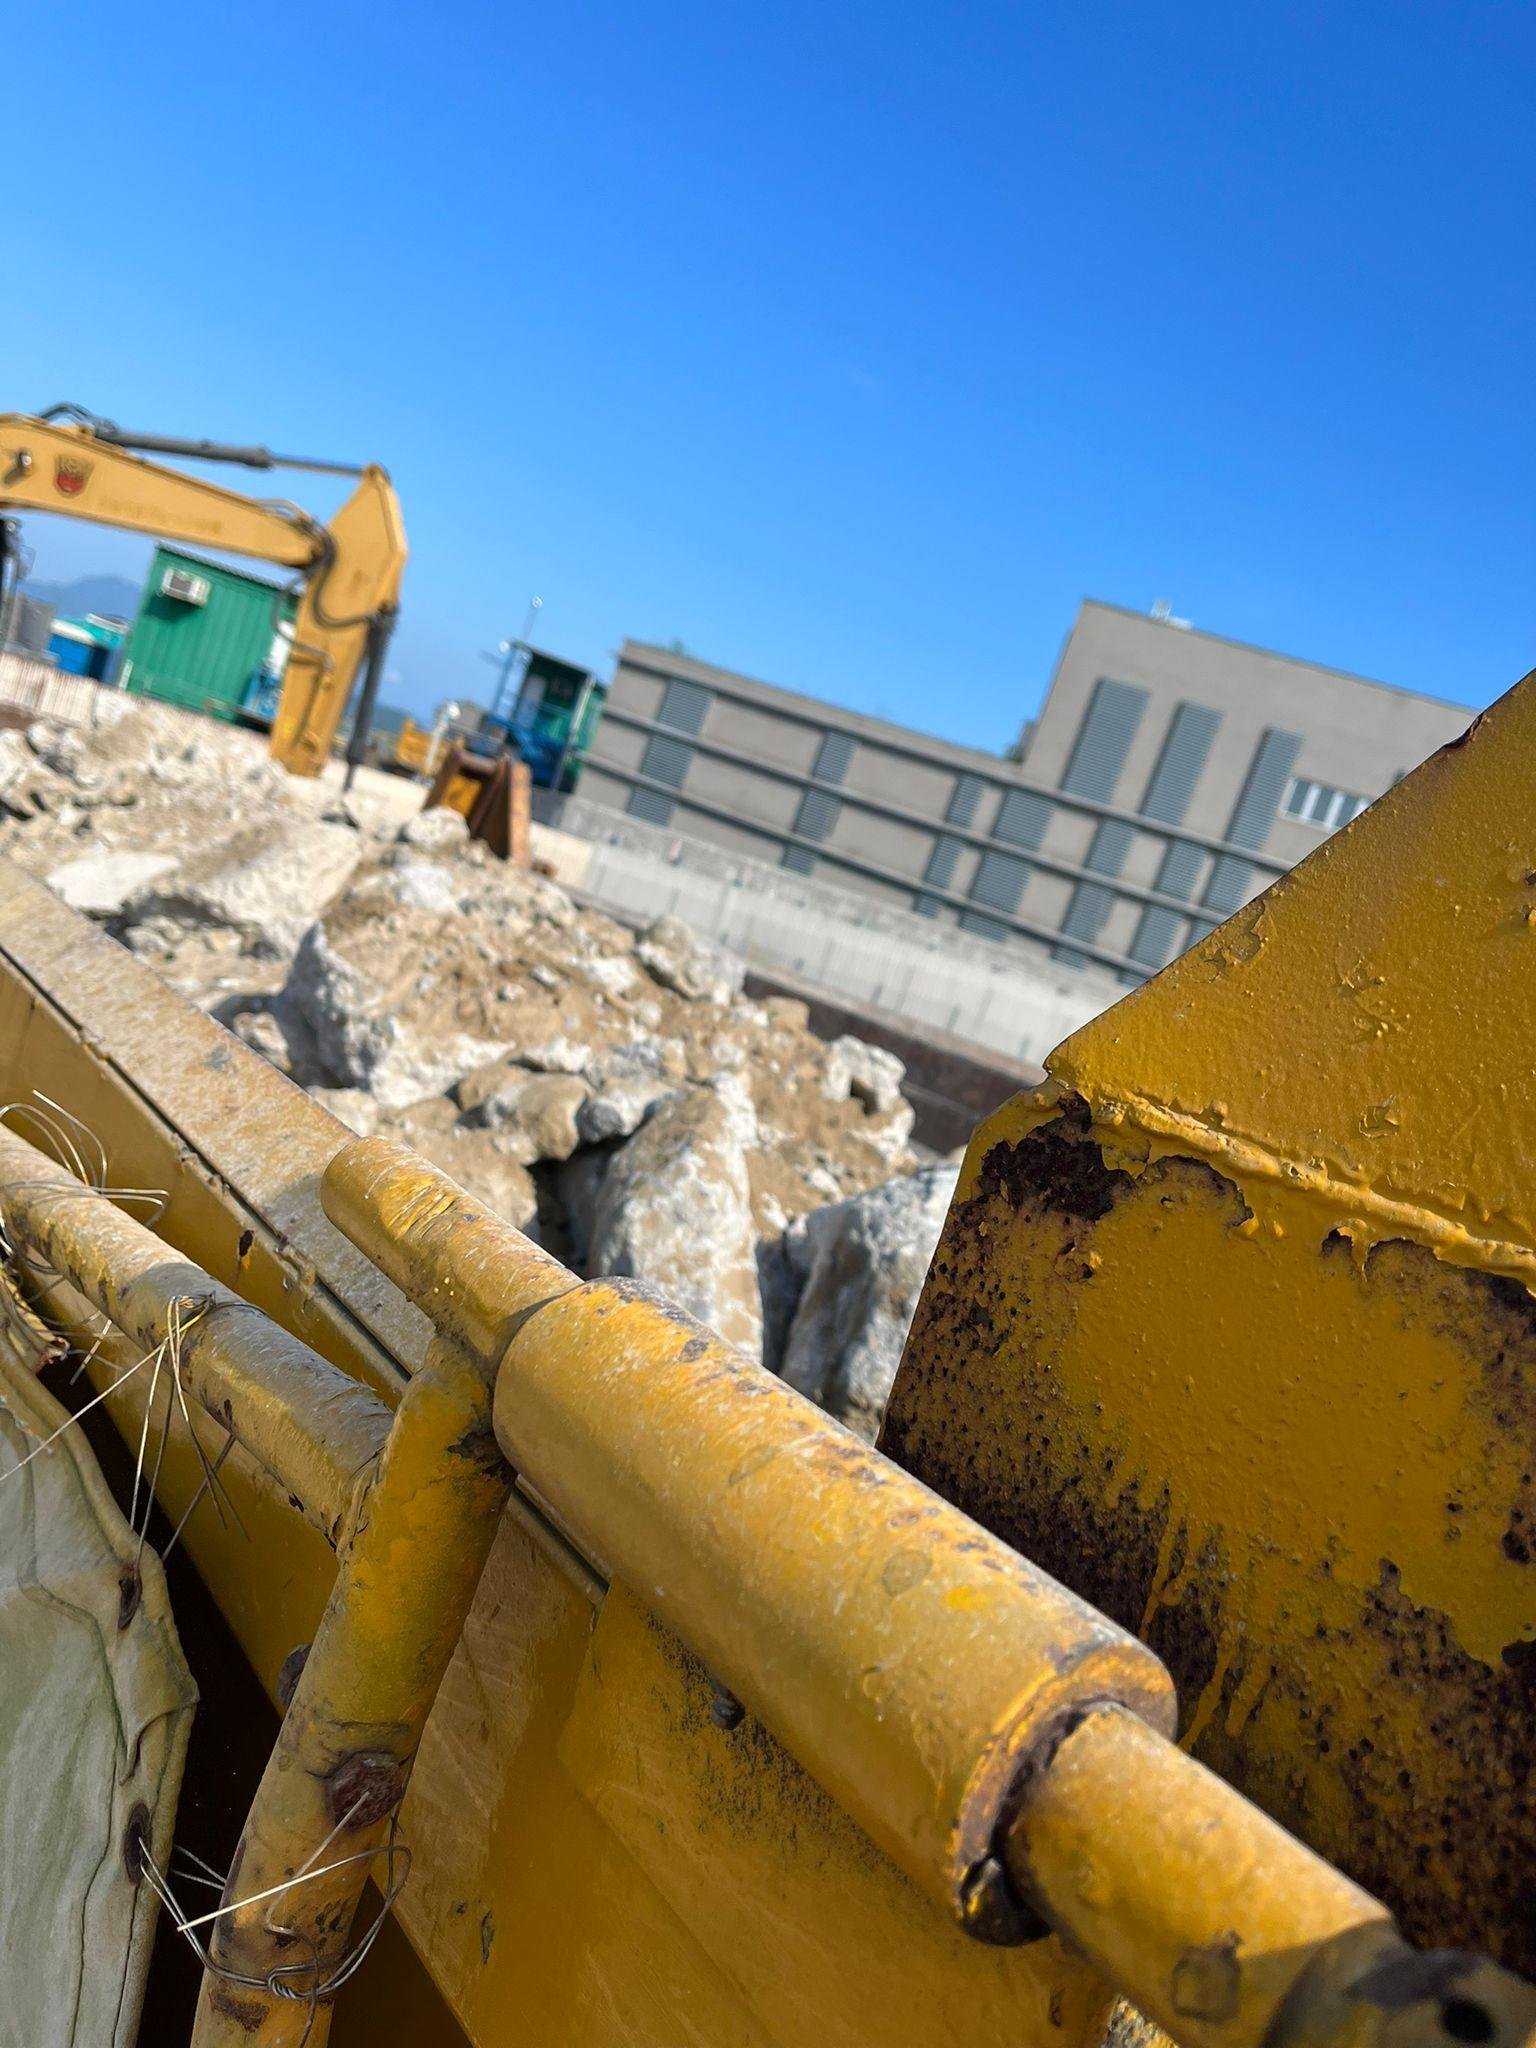dry: (10, 727, 920, 1427)
